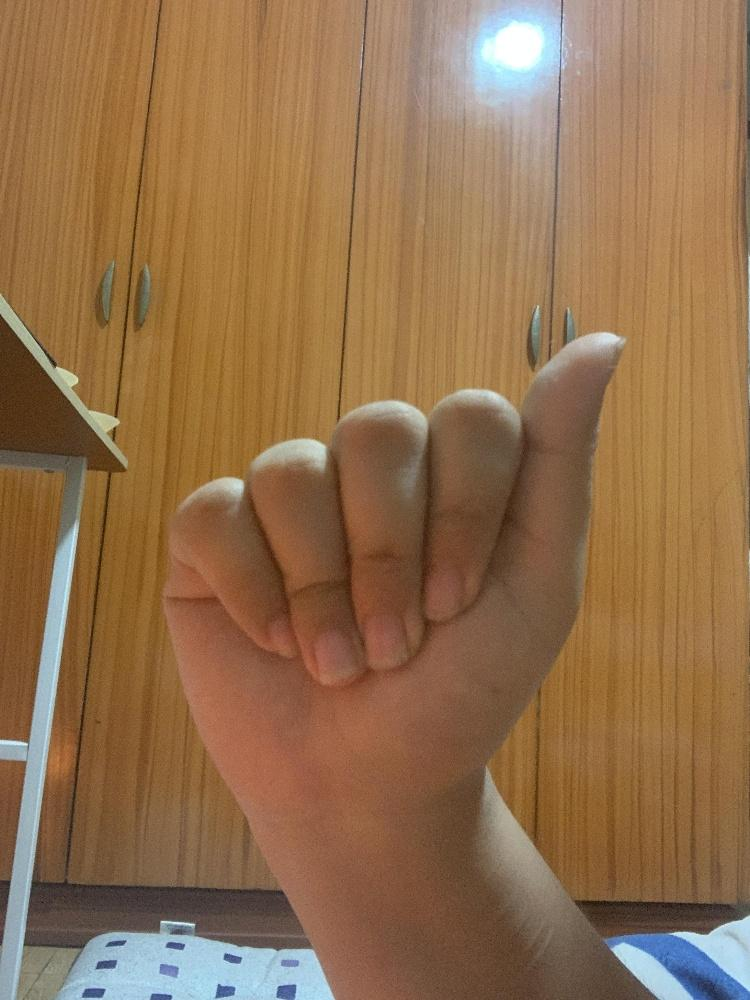a: (164, 329, 627, 791)
